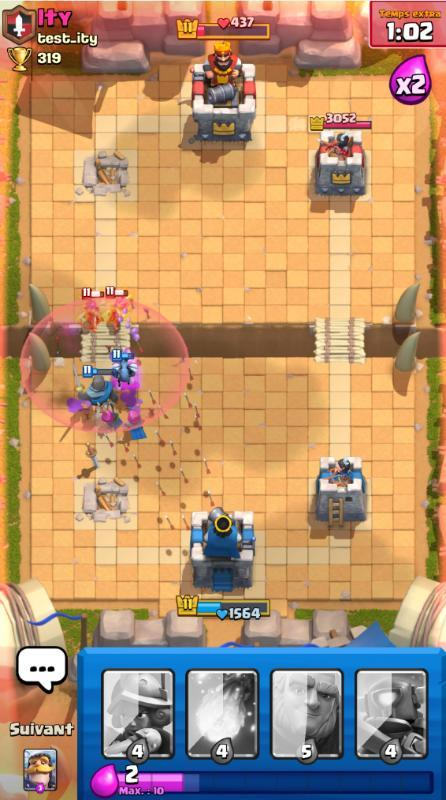archere: (80, 287, 103, 333), (105, 288, 129, 332), (121, 403, 148, 441), (101, 397, 123, 433)
chevalier: (72, 364, 119, 414)
gargouille: (110, 349, 138, 388)
